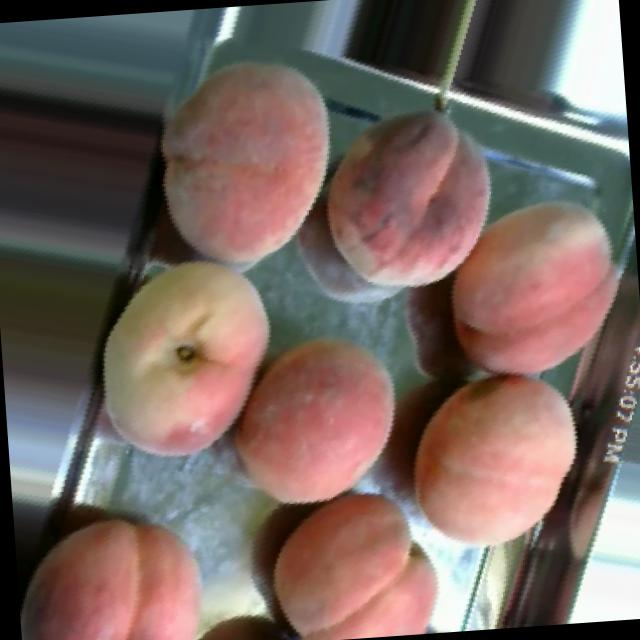Fruit: (62, 226, 303, 488), (138, 27, 366, 293), (377, 346, 616, 578), (295, 82, 526, 321), (414, 174, 640, 409), (204, 314, 426, 534), (243, 480, 470, 640), (12, 483, 233, 640)
